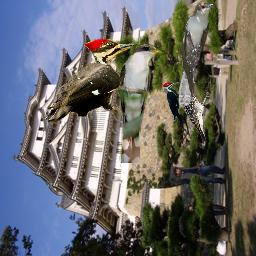Cuckoo: (118, 43, 166, 163), (177, 1, 216, 106)
Woodpecker: (45, 39, 140, 122), (182, 82, 212, 146), (162, 81, 188, 126)
